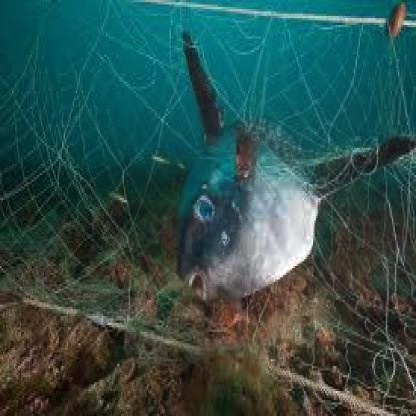net: (1, 5, 170, 325)
